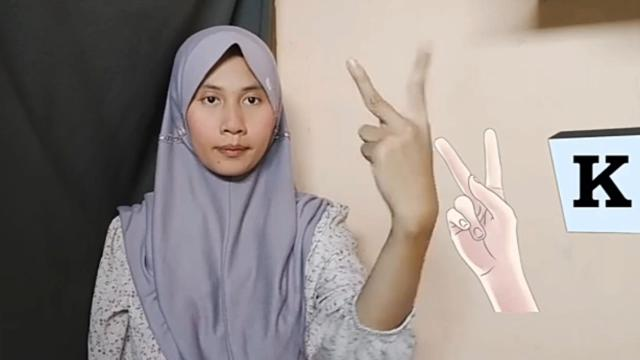K: (343, 44, 441, 232)
